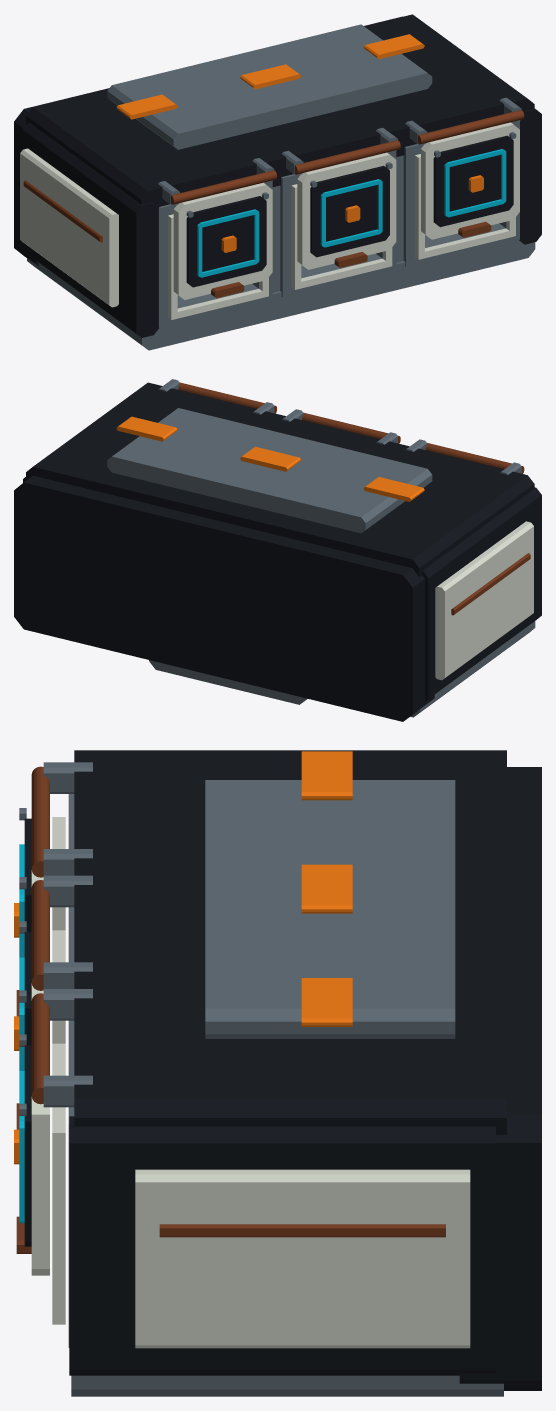
Rendered from M01-009_tri_segment_rocket_launcher.obj.
3 renders of one model, top to bottom at view 1: azimuth 30°, elevation 25°; view 2: azimuth 150°, elevation 25°; view 3: azimuth 270°, elevation 25°, orthographic. The views are drawn at different scales.
Visible parts, largest first — view 1: Top_Load_Beam, Dorsal_Spine, Bottom_Load_Beam, Ceramic_Side_Armor_-1, Side_Frame_-1, Hatch_Inner_Armor_A, Hatch_Inner_Armor_C, Hatch_Inner_Armor_B, Opening_Hatch_B, Opening_Hatch_A, Opening_Hatch_C, Side_Frame_1 (+16 smaller); view 2: Rear_Bulkhead, Top_Load_Beam, Dorsal_Spine, Ceramic_Side_Armor_-1, Side_Frame_-1, MOUNT_TOP_SOCKET_PLATE, Bottom_Load_Beam, Dorsal_Identifier_2, Dorsal_Identifier_1, Dorsal_Identifier_0, Hinge_Pin_A, Hinge_Pin_C (+2 smaller); view 3: Top_Load_Beam, Dorsal_Spine, Ceramic_Side_Armor_1, Side_Frame_1, Rear_Bulkhead, Bottom_Load_Beam, Copper_Side_Accent_1, Inner_Ceramic_Lip_C, Opening_Hatch_C, Dorsal_Identifier_0, Dorsal_Identifier_1, Dorsal_Identifier_2 (+15 smaller).
Part boxes in pixels (x1=…): Top_Load_Beam: x1=26, y1=14, x2=534, y2=206; Dorsal_Spine: x1=107, y1=24, x2=432, y2=149; Bottom_Load_Beam: x1=27, y1=235, x2=535, y2=350; Ceramic_Side_Armor_-1: x1=20, y1=148, x2=118, y2=307; Side_Frame_-1: x1=23, y1=122, x2=159, y2=337; Hatch_Inner_Armor_A: x1=186, y1=196, x2=266, y2=287; Hatch_Inner_Armor_C: x1=433, y1=135, x2=513, y2=227; Hatch_Inner_Armor_B: x1=310, y1=165, x2=389, y2=257; Opening_Hatch_B: x1=297, y1=152, x2=396, y2=269; Opening_Hatch_A: x1=173, y1=182, x2=272, y2=299; Opening_Hatch_C: x1=421, y1=122, x2=519, y2=239; Side_Frame_1: x1=519, y1=108, x2=541, y2=244; Rear_Bulkhead: x1=14, y1=475, x2=434, y2=721; Top_Load_Beam: x1=26, y1=382, x2=534, y2=576; Dorsal_Spine: x1=107, y1=408, x2=432, y2=533; Ceramic_Side_Armor_-1: x1=435, y1=521, x2=533, y2=680; Side_Frame_-1: x1=422, y1=487, x2=541, y2=700; MOUNT_TOP_SOCKET_PLATE: x1=149, y1=660, x2=307, y2=704; Bottom_Load_Beam: x1=410, y1=621, x2=535, y2=717; Dorsal_Identifier_2: x1=116, y1=416, x2=177, y2=441; Dorsal_Identifier_1: x1=240, y1=446, x2=300, y2=471; Dorsal_Identifier_0: x1=363, y1=477, x2=424, y2=501; Hinge_Pin_A: x1=425, y1=443, x2=524, y2=473; Hinge_Pin_C: x1=178, y1=382, x2=276, y2=413; Top_Load_Beam: x1=74, y1=750, x2=506, y2=1134; Dorsal_Spine: x1=205, y1=780, x2=455, y2=1038; Ceramic_Side_Armor_1: x1=135, y1=1169, x2=470, y2=1348; Side_Frame_1: x1=69, y1=1116, x2=495, y2=1375; Rear_Bulkhead: x1=459, y1=767, x2=541, y2=1390; Bottom_Load_Beam: x1=71, y1=1375, x2=503, y2=1396; Copper_Side_Accent_1: x1=159, y1=1224, x2=445, y2=1237; Inner_Ceramic_Lip_C: x1=52, y1=1043, x2=65, y2=1324; Opening_Hatch_C: x1=31, y1=1097, x2=49, y2=1275; Dorsal_Identifier_0: x1=301, y1=751, x2=352, y2=800; Dorsal_Identifier_1: x1=301, y1=864, x2=352, y2=913; Dorsal_Identifier_2: x1=301, y1=978, x2=352, y2=1026.
Size of the model in its own units: 1.53 by 0.6765 by 0.8665.
